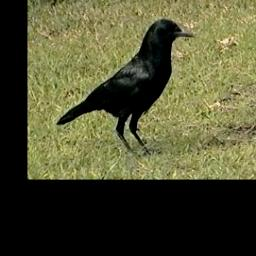Crow: (56, 18, 196, 158)
